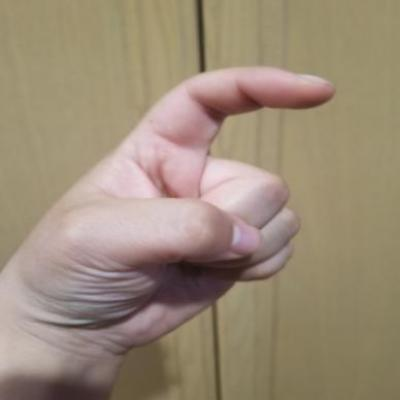hand: (0, 46, 349, 368)
